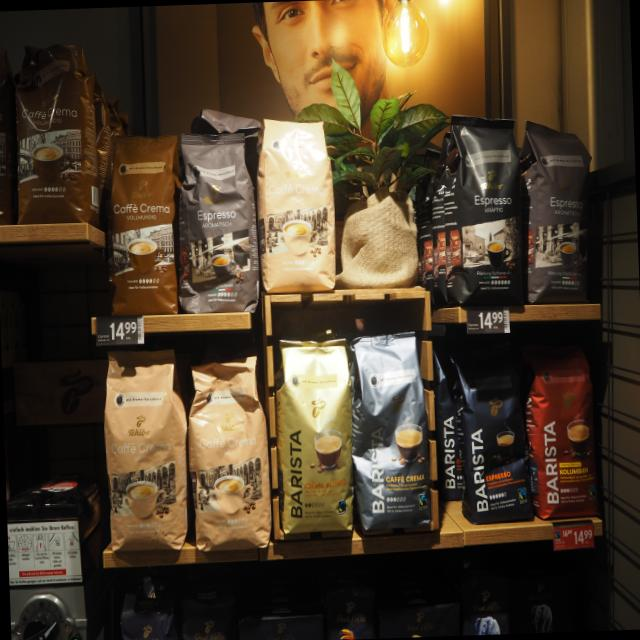Barista CB: (270, 334, 358, 536)
Barista CC: (344, 328, 432, 534)
Barista Espresso: (449, 340, 538, 528)
Barista Kolumbien: (522, 337, 600, 522)
CC Mild: (99, 346, 192, 555), (183, 352, 274, 554), (250, 113, 337, 295)
CC Vollmundig 36 Pads: (7, 36, 102, 228), (98, 130, 186, 320)
Espresso Aromatisch: (171, 128, 261, 318), (518, 115, 599, 308)
Espresso Kraftig: (438, 106, 528, 308)
